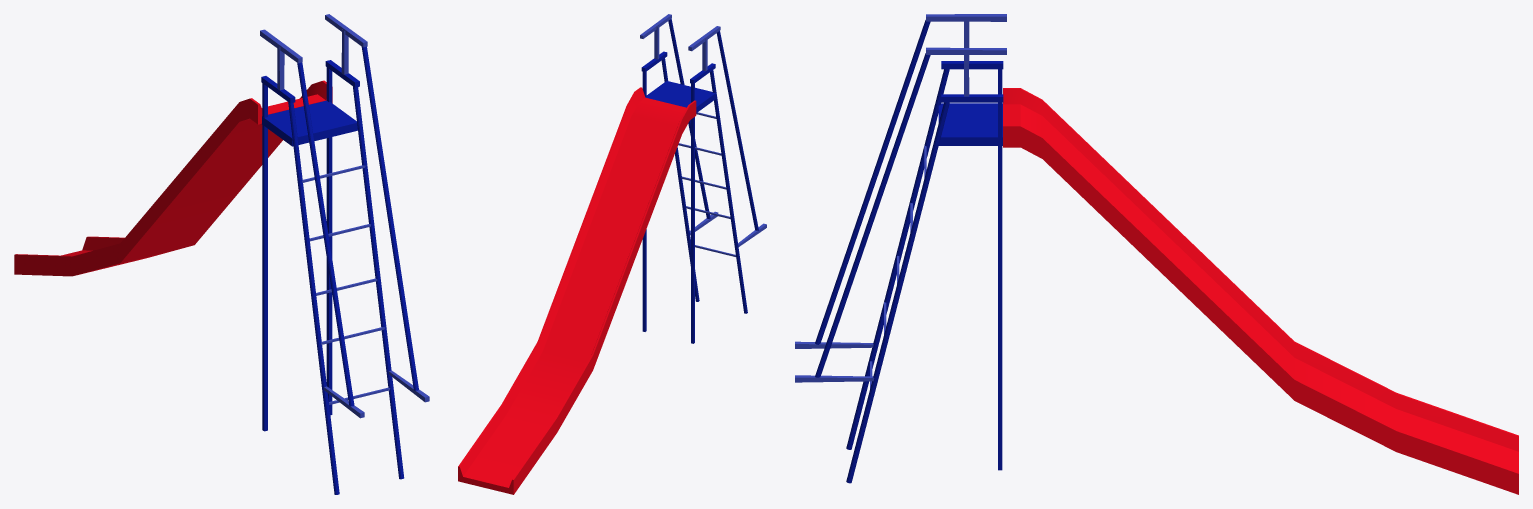
Rendered from EscorregadorLOD0.fbx.
3 views of the same model, side by side, from view 1: azimuth 30°, elevation 25°; view 2: azimuth 150°, elevation 25°; view 3: azimuth 270°, elevation 25° (orthographic). The views are drawn at different scales.
Parts seen in each view (by area): view 1: EscorregadorLOD0; view 2: EscorregadorLOD0; view 3: EscorregadorLOD0.
Part boxes in pixels (x1,y1,x2,y2): EscorregadorLOD0: [14, 14, 429, 494]; EscorregadorLOD0: [458, 14, 766, 494]; EscorregadorLOD0: [795, 14, 1518, 494].
Size of the model in its own units: 44.11 by 238 by 351.
